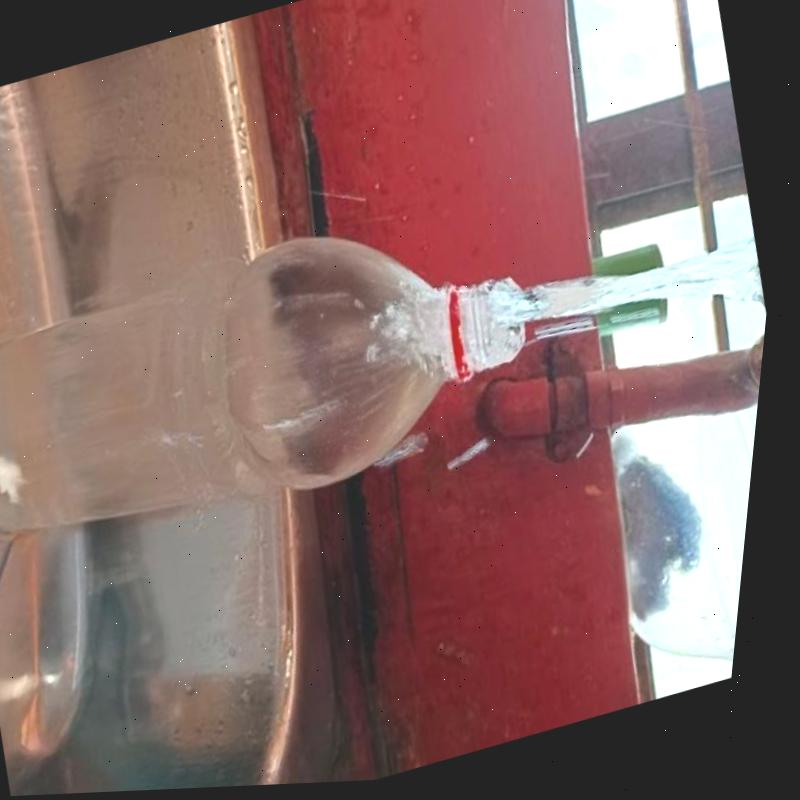botella: (0, 180, 568, 588)
